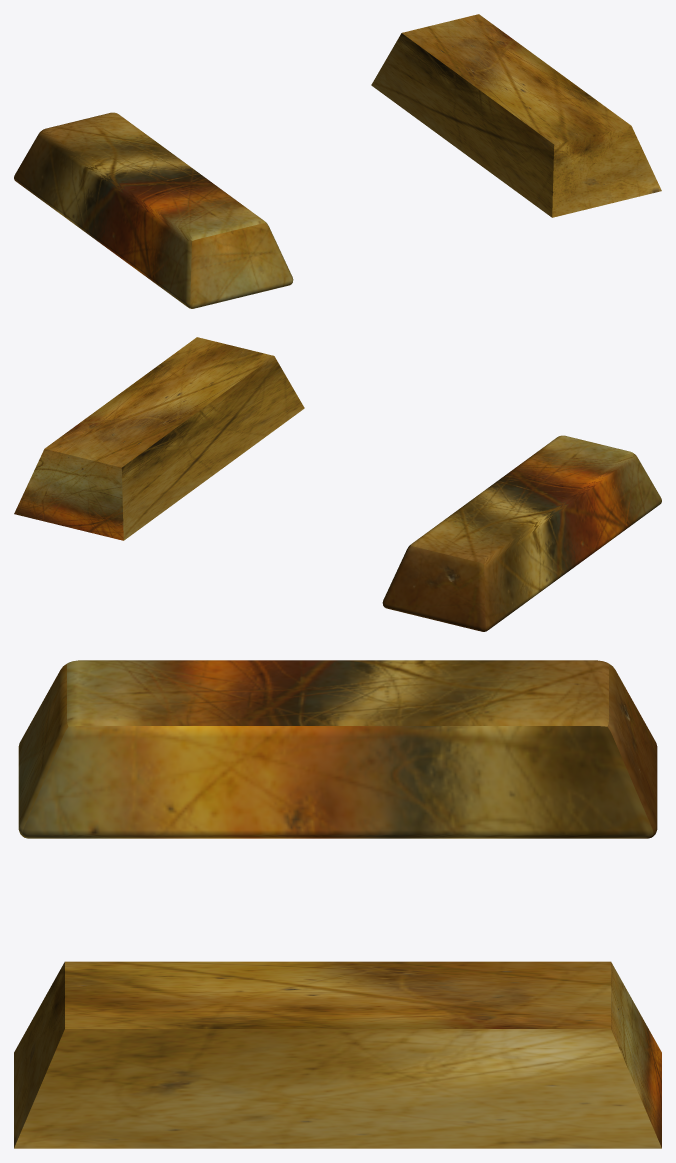
Rendered from Gold Bar.fbx.
3 renders of one model, top to bottom at view 1: azimuth 30°, elevation 25°; view 2: azimuth 150°, elevation 25°; view 3: azimuth 270°, elevation 25°, orthographic. The views are drawn at different scales.
Visible parts, largest first — view 1: pCube2, pCube1; view 2: pCube2, pCube1; view 3: pCube2, pCube1.
Part boxes in pixels (bbox=[...]): pCube2: bbox=[371, 14, 661, 217]; pCube1: bbox=[14, 112, 293, 308]; pCube2: bbox=[14, 337, 304, 540]; pCube1: bbox=[382, 435, 661, 631]; pCube2: bbox=[14, 961, 661, 1148]; pCube1: bbox=[18, 660, 657, 838].
Bounding box in the file's own units: 3 × 0.3983 × 2.
Materials: 2 (2 with a texture image).
